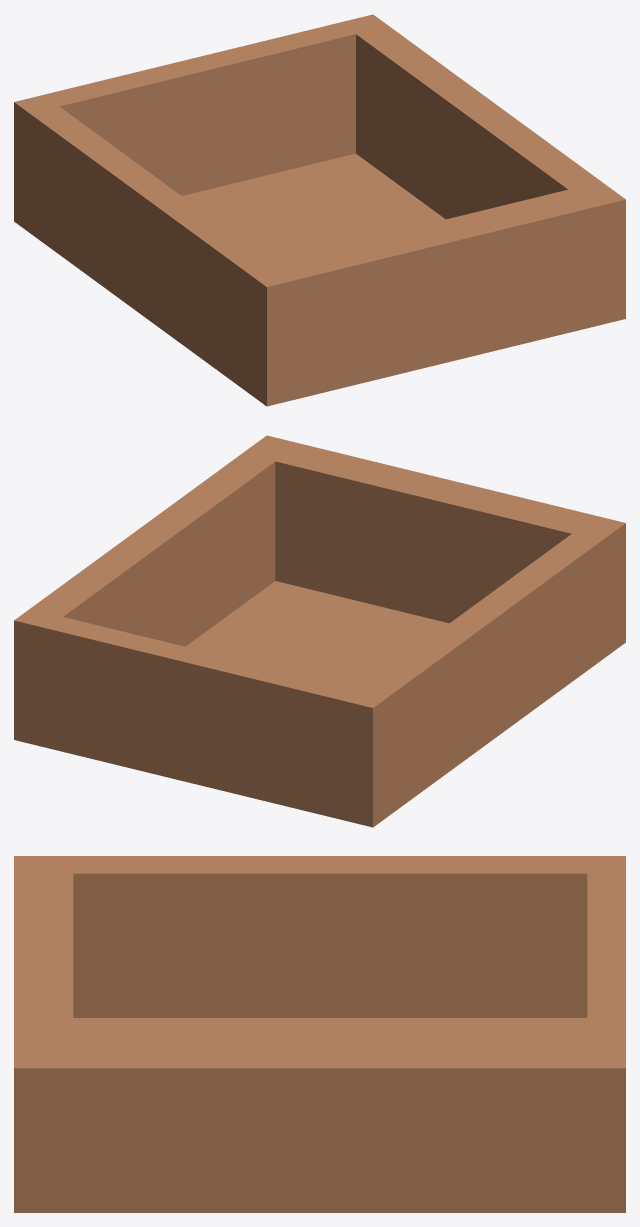
File: Boat.fbx
The picture shows the model from 3 angles, top to bottom: view 1: azimuth 30°, elevation 25°; view 2: azimuth 150°, elevation 25°; view 3: azimuth 270°, elevation 25°; orthographic projection. The views are drawn at different scales.
Visible parts, largest first — view 1: Cube; view 2: Cube; view 3: Cube.
Boxes of the visible parts, <box> form: Cube: <box>14,14,625,406</box>; Cube: <box>14,435,625,827</box>; Cube: <box>14,856,625,1212</box>.
Size of the model in its own units: 568 by 181 by 693.
